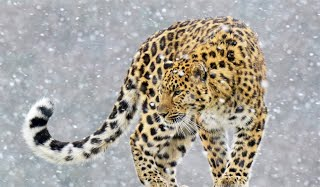amur_leopard: (21, 14, 273, 187)
